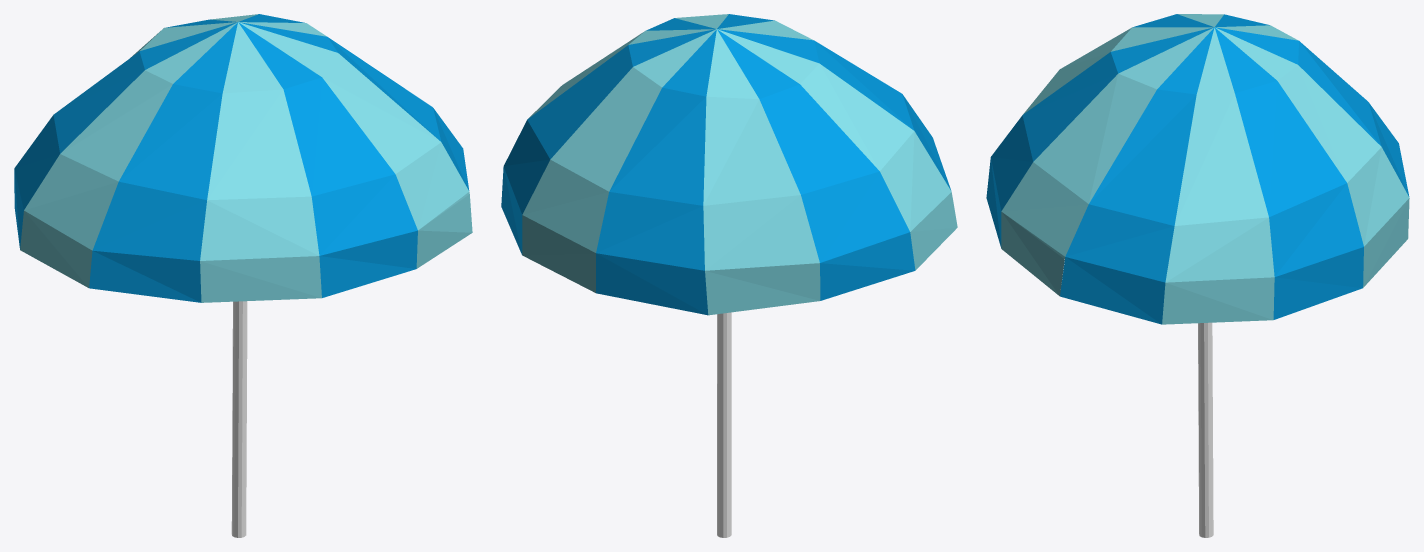
File: DarkUmbrella.glb
3 renders of one model, left to right at view 1: azimuth 30°, elevation 25°; view 2: azimuth 150°, elevation 25°; view 3: azimuth 270°, elevation 25°, orthographic.
Visible parts, largest first — view 1: group822346014, group1776344293; view 2: group822346014, group1776344293; view 3: group822346014, group1776344293.
Part boxes in pixels (x1=…): group822346014: x1=14, y1=14, x2=472, y2=302; group1776344293: x1=231, y1=301, x2=247, y2=537; group822346014: x1=501, y1=14, x2=957, y2=315; group1776344293: x1=717, y1=312, x2=731, y2=537; group822346014: x1=986, y1=14, x2=1409, y2=324; group1776344293: x1=1198, y1=322, x2=1213, y2=537.
Size of the model in its own units: 0.5675 by 0.6732 by 0.5069.
